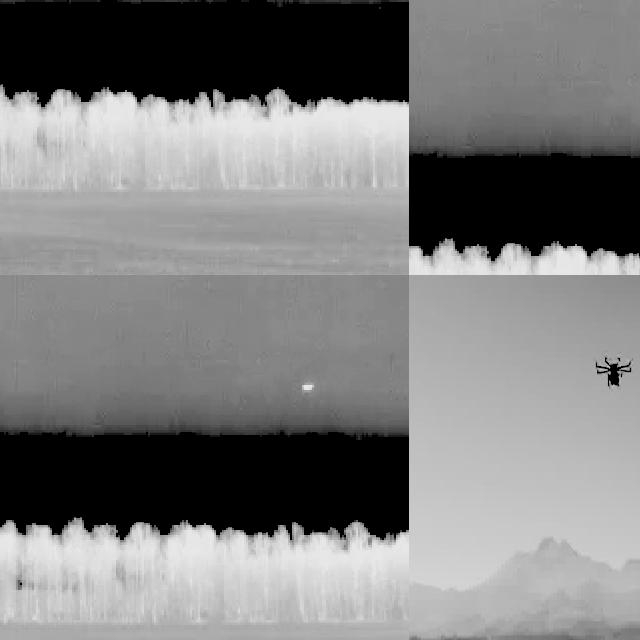1: (290, 378, 320, 400)
drone: (591, 347, 635, 394)
